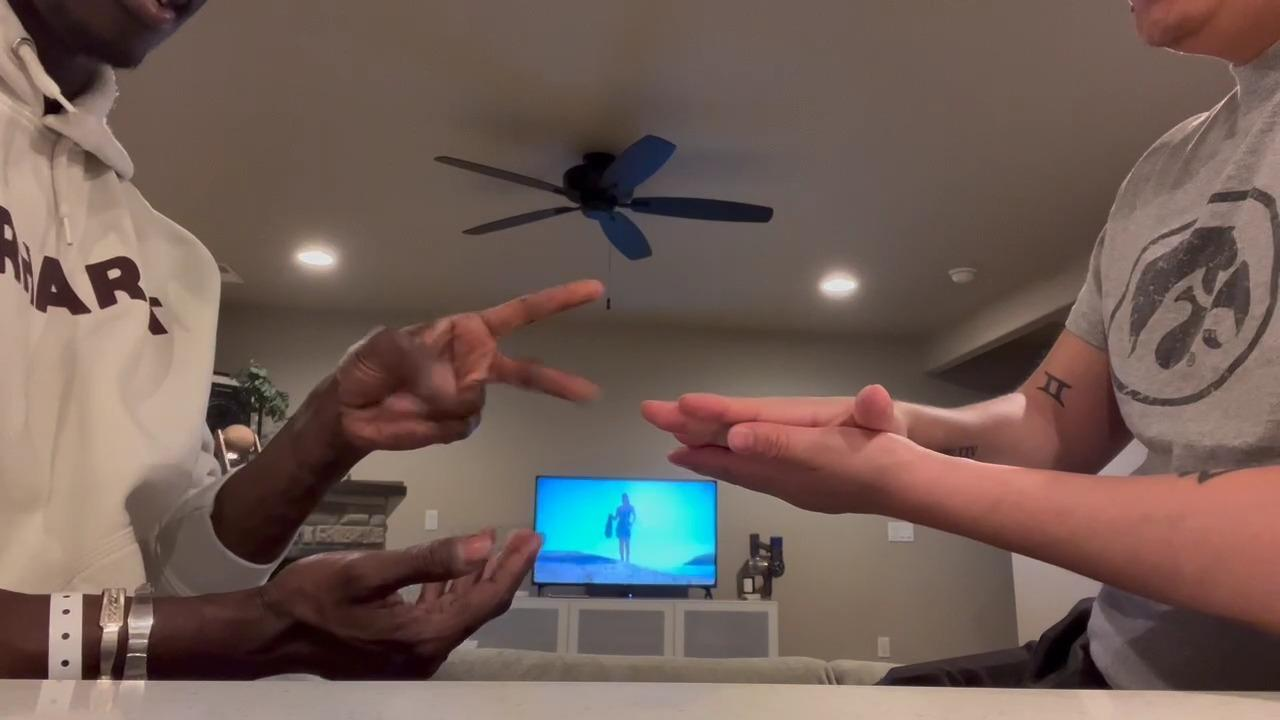Paper: (638, 382, 907, 447)
Scissors: (307, 275, 602, 451)
